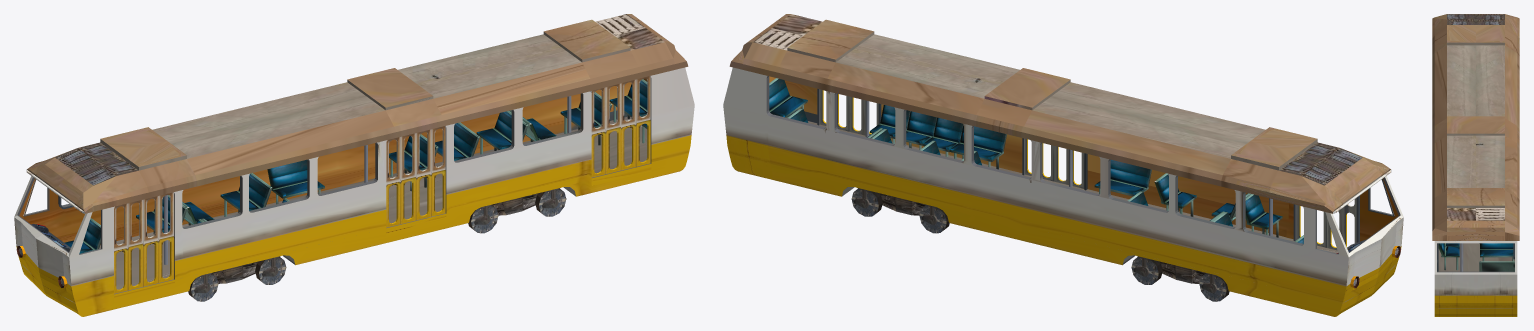
Rendered from tramm.fbx.
The picture shows the model from 3 angles, left to right: view 1: azimuth 30°, elevation 25°; view 2: azimuth 150°, elevation 25°; view 3: azimuth 270°, elevation 25°; orthographic projection. The views are drawn at different scales.
Parts seen in each view (by area): view 1: train; view 2: train; view 3: train.
Part boxes in pixels (x1,y1,x2,y2): train: (14, 14, 694, 316); train: (723, 14, 1403, 316); train: (1432, 14, 1519, 316).
Bounding box in the file's own units: 1851 × 411 × 296.
Materials: 51 (51 with a texture image).
